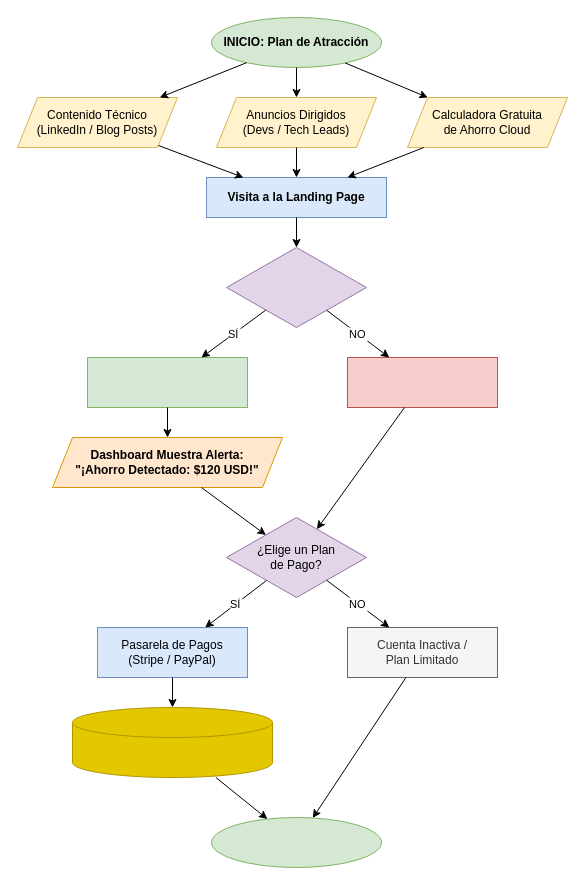
Some shapes in this 585 by 885 pixel diagram are drawn without their labels. Each missing label, with the centre of its shape:
"Base de Datos MySQL (Cliente Activo - MRR Recurrente)" belongs at (x=172, y=742).
"Crear Cuenta Free Trial (14 Días sin tarjeta)" belongs at (x=167, y=382).
"Email Nurturing / Casos de Estudio" belongs at (x=422, y=382).
"FIN: Cliente Fidelizado" belongs at (x=296, y=842).
"¿El prospecto se registra?" belongs at (x=296, y=287).
